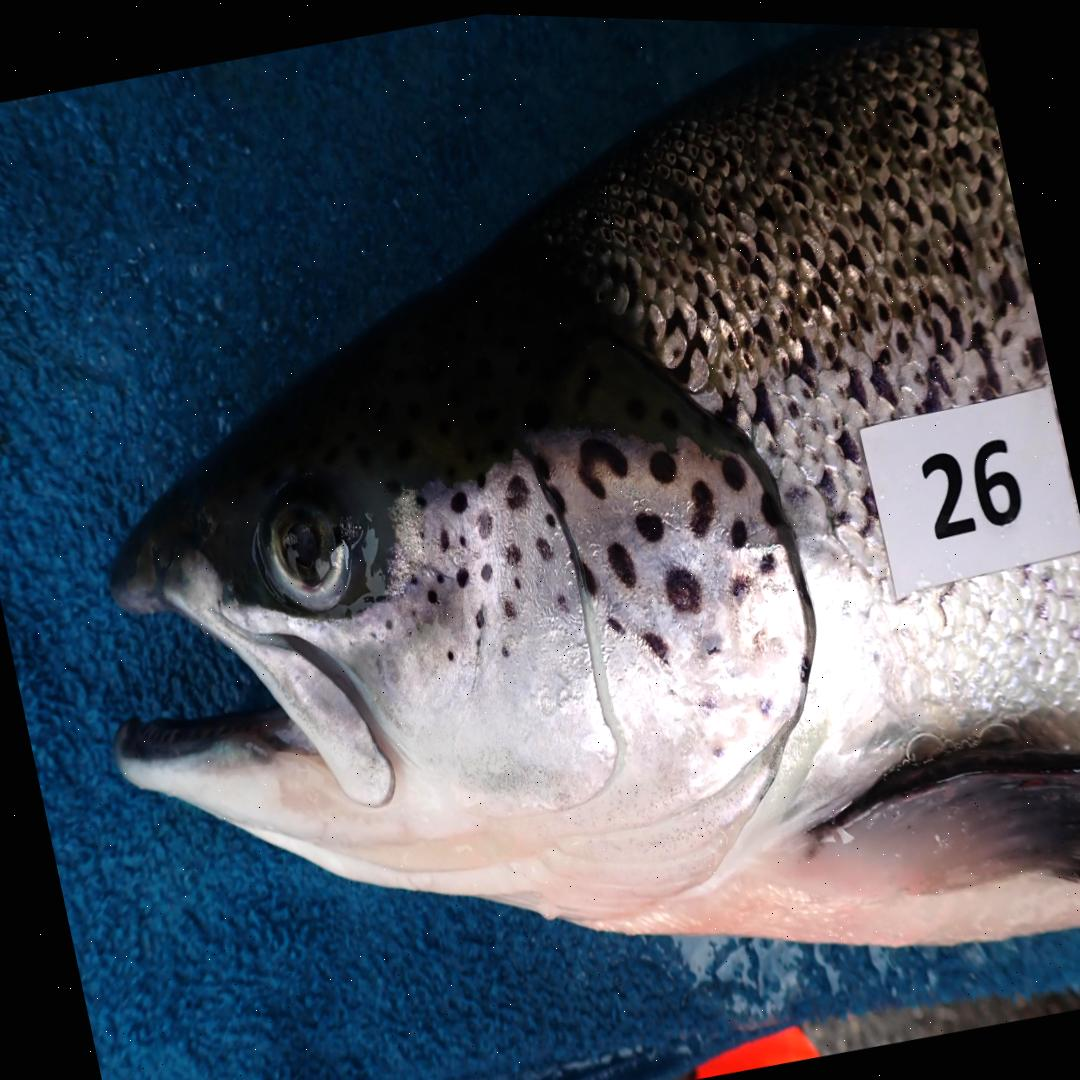spot: (578, 434, 628, 494), (665, 562, 702, 609), (690, 475, 716, 533), (608, 540, 637, 584), (691, 624, 726, 655), (694, 684, 723, 718), (721, 450, 747, 486), (635, 508, 665, 539), (649, 446, 676, 479), (642, 627, 669, 659), (506, 472, 530, 507), (543, 478, 567, 513), (529, 441, 550, 478), (502, 536, 526, 568), (603, 606, 628, 635), (761, 486, 781, 522), (707, 733, 731, 763), (754, 684, 776, 716), (552, 581, 572, 615), (731, 568, 752, 595), (495, 634, 516, 661), (582, 558, 598, 591), (730, 514, 748, 543), (536, 534, 554, 557), (478, 510, 493, 537), (450, 489, 468, 510), (759, 548, 776, 569), (414, 488, 429, 508), (455, 564, 469, 584), (480, 559, 493, 579), (504, 595, 517, 615), (475, 606, 486, 627), (440, 527, 450, 547), (512, 573, 524, 588), (427, 587, 438, 601), (476, 470, 486, 485), (546, 509, 556, 523), (435, 568, 445, 580), (458, 532, 467, 543), (410, 572, 418, 583), (385, 617, 393, 627), (447, 647, 454, 658), (419, 529, 424, 536)
